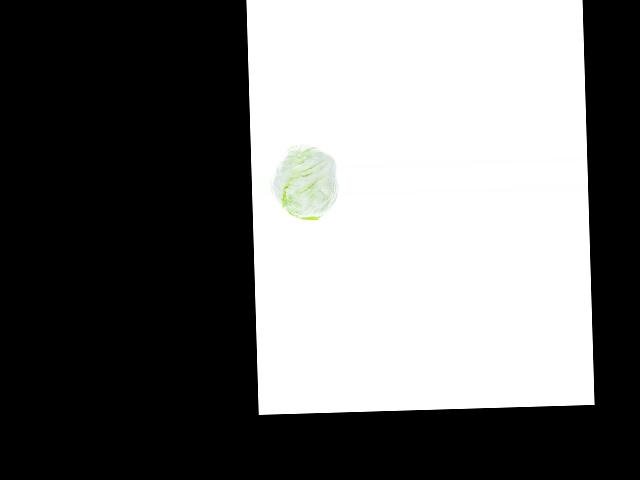lettuce: (270, 144, 335, 219)
